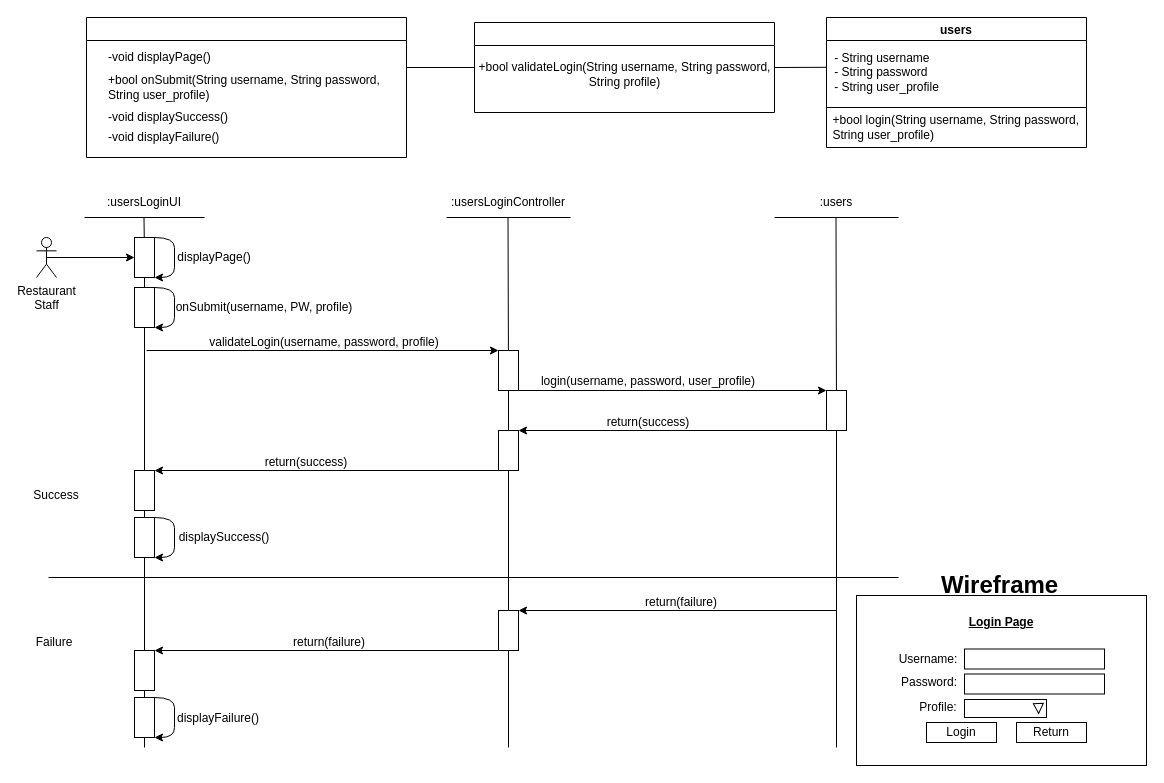
Some shapes in this 1164 by 783 pixel diagram are drawn without their labels. Here are the shapes that lost their labels. From the top down, the box of each, then its label:
(86, 16, 406, 158): usersLoginUI
(474, 22, 774, 112): usersLoginController
